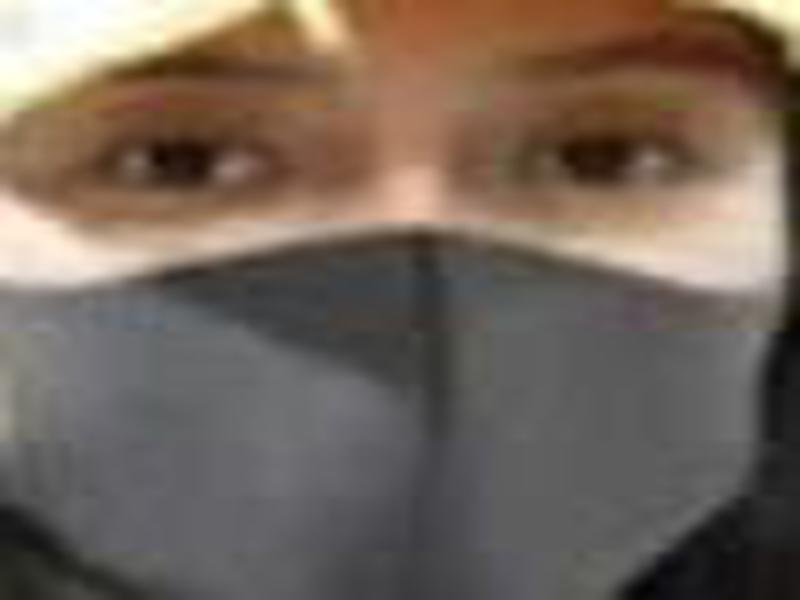with_mask: (6, 3, 789, 600)
